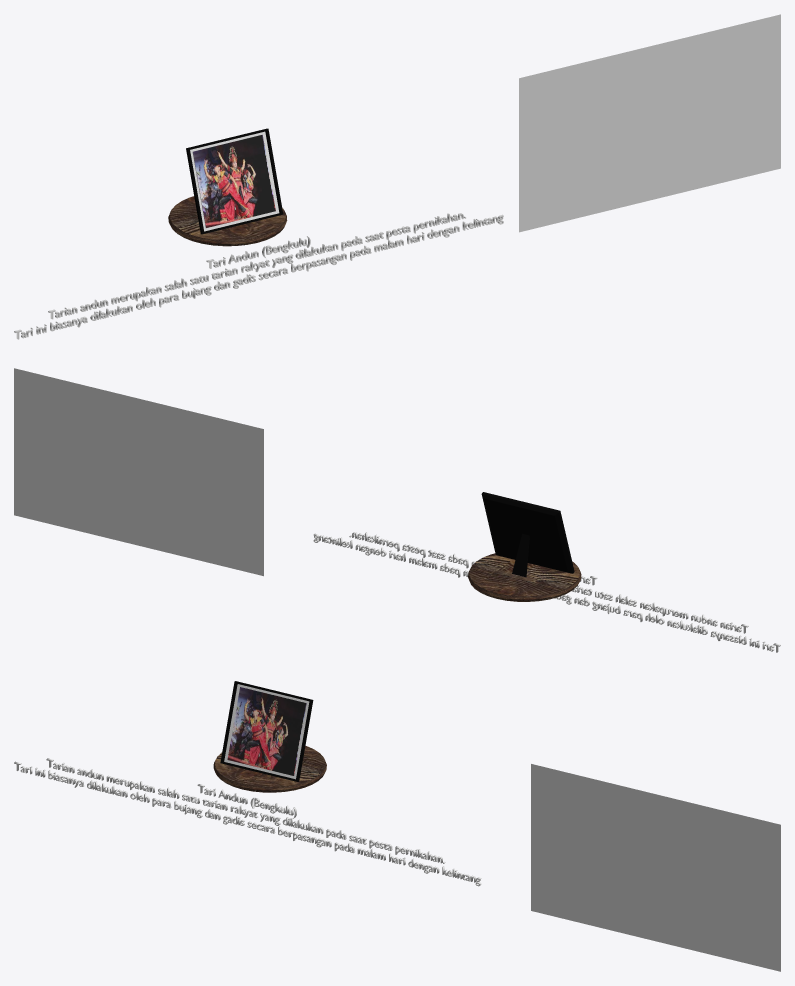
The model's file is 6. Tari Andun (Bengkulu).fbx.
3 views of the same model, one above another, from view 1: azimuth 30°, elevation 25°; view 2: azimuth 150°, elevation 25°; view 3: azimuth 330°, elevation 25° (orthographic). The views are drawn at different scales.
Visible parts, largest first — view 1: Plane, Cube.005, Text.001; view 2: Plane, Cube.005, Text.001; view 3: Plane, Cube.005, Text.001.
Boxes of the visible parts, x1,y1,x2,y2 form: Plane: (519,14,780,232); Cube.005: (168,128,287,246); Text.001: (14,213,503,339); Plane: (14,368,263,576); Cube.005: (468,492,581,601); Text.001: (313,532,780,652); Plane: (531,764,780,971); Cube.005: (213,681,326,792); Text.001: (14,758,481,886).
Size of the model in its own units: 9586 by 1806 by 1260.
6 materials, 3 textured.
